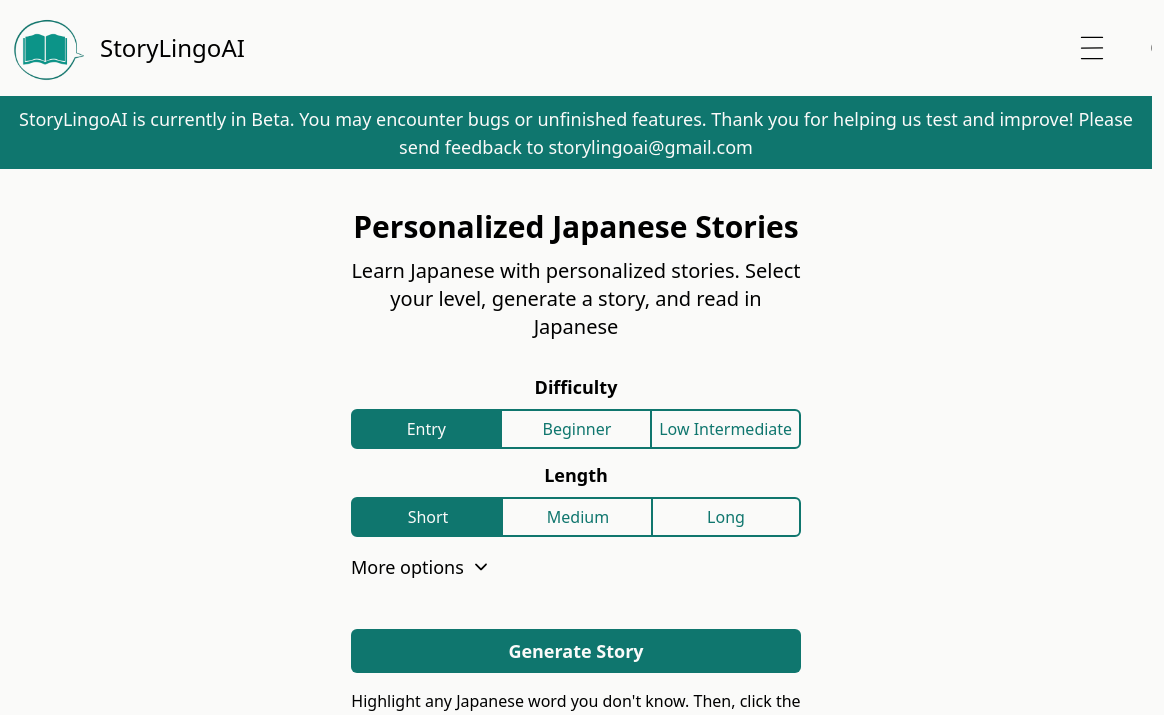
Menu Options › opens menu options
This screenshot has width=1164, height=715.
Click the element with id "menu-burger-id".
click(1092, 48)  # box [1077,33,1107,63]
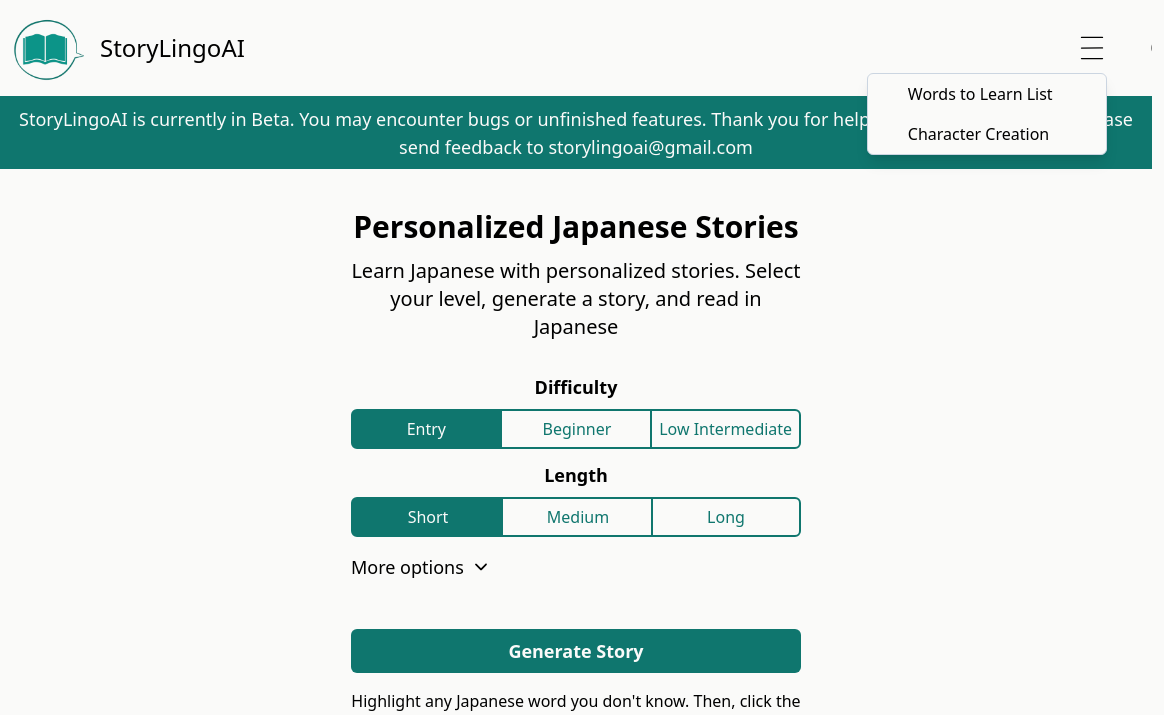
Result: the element with id "menu-options-id" is shown at [867,73,1107,155]
